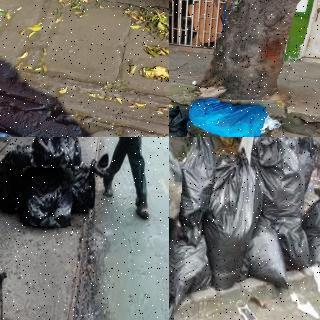Garbage: (203, 149, 260, 290), (246, 137, 320, 228), (171, 137, 221, 245), (169, 216, 221, 299), (240, 216, 296, 292), (188, 97, 282, 137), (22, 167, 72, 227), (0, 143, 35, 216), (62, 162, 95, 214), (299, 185, 320, 264), (32, 137, 82, 166), (169, 139, 186, 216), (169, 104, 191, 137)
